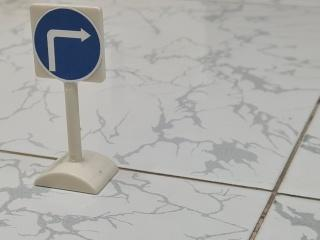right: (16, 0, 112, 92)
